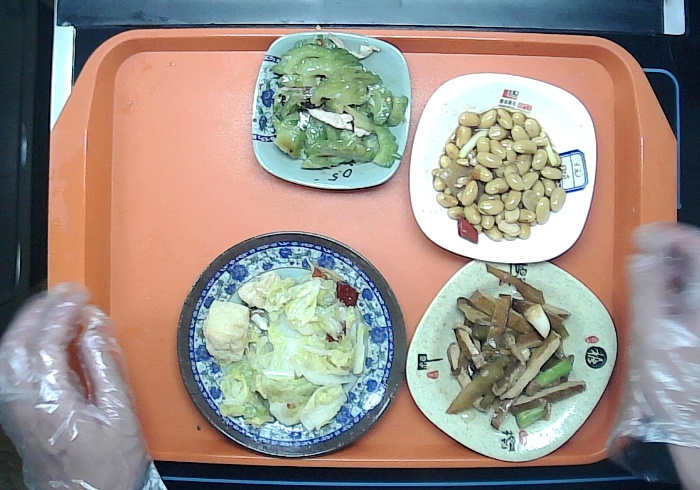NLDX-Bai_Se_Xiao_Fang_Die: (402, 71, 601, 268)
NLDX-Fu_Zi_Fang_Die: (407, 253, 620, 455)
NLDX-Qing_Hua_Xiao_Fang_Die: (249, 28, 416, 195)
NLDX-Qing_Hua_Yuan_Die: (163, 228, 398, 464)
